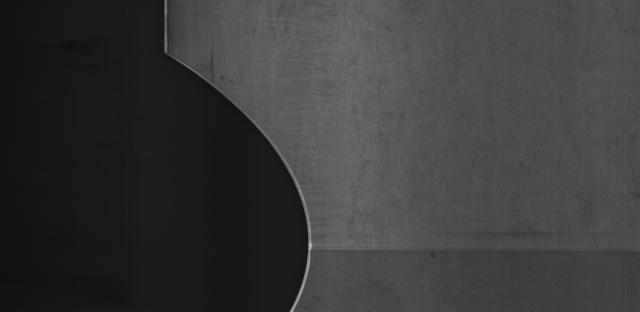crescent_gap: (148, 43, 317, 312)
welding_line: (298, 232, 640, 264)
